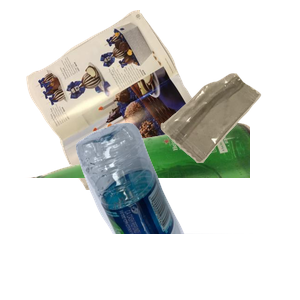glass: (23, 120, 263, 300)
paper: (24, 10, 235, 190)
plastic: (73, 120, 300, 300)
trash: (158, 71, 300, 227)
